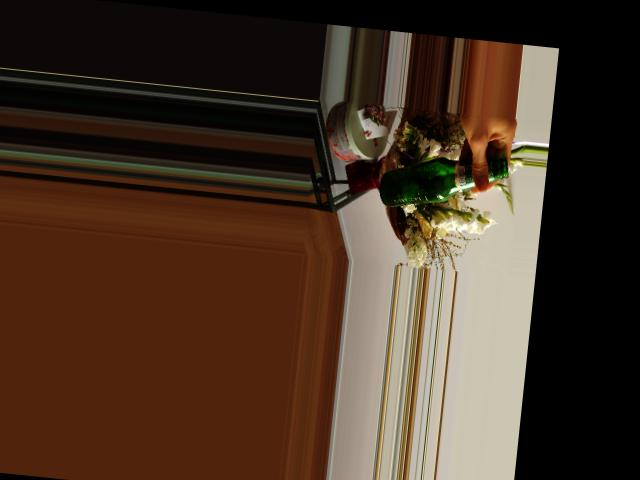beer: (377, 150, 509, 218)
